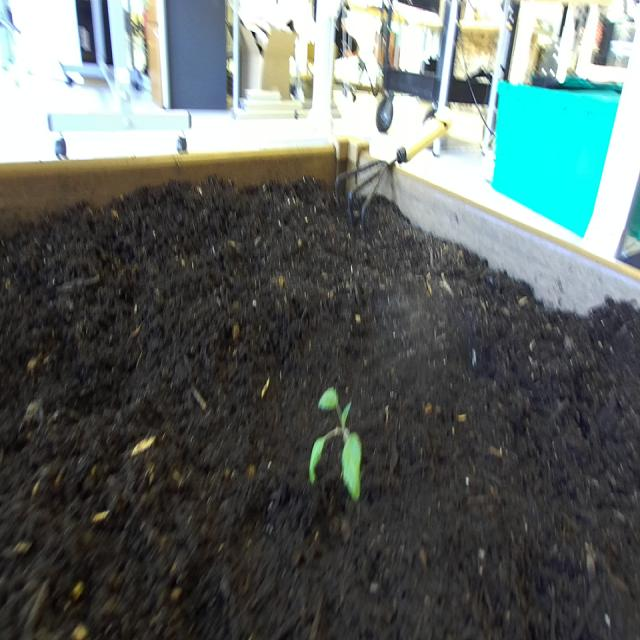Healthy: (305, 376, 375, 514)
